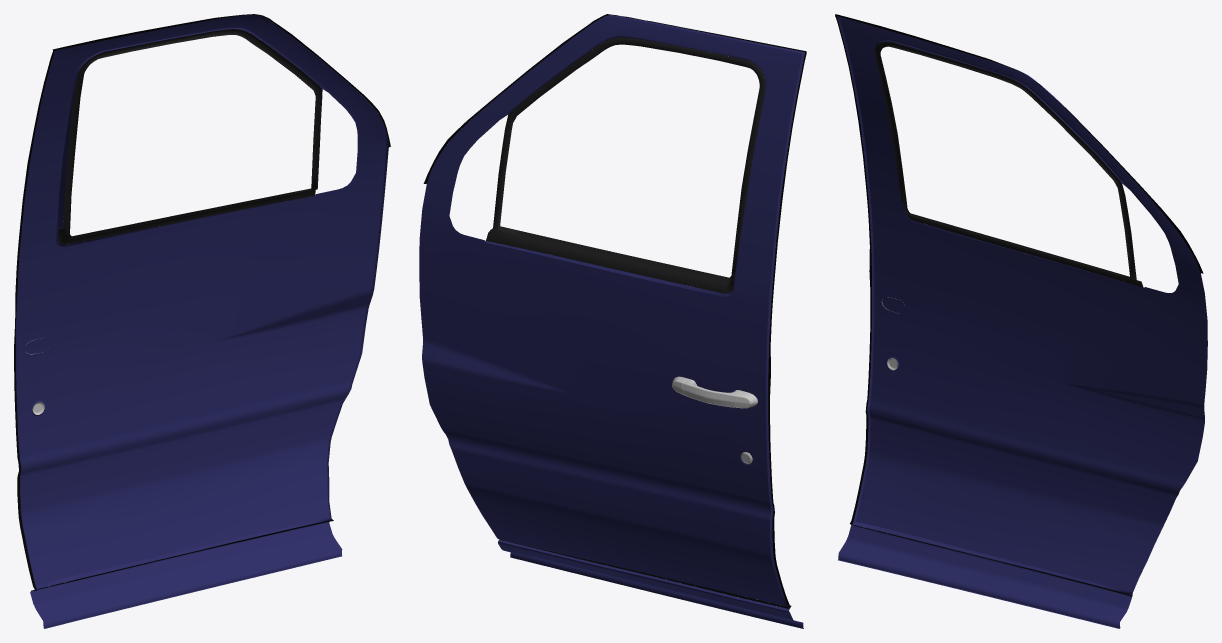
The picture shows the model from 3 angles, left to right: view 1: azimuth 30°, elevation 25°; view 2: azimuth 150°, elevation 25°; view 3: azimuth 330°, elevation 25°; orthographic projection. The views are drawn at different scales.
Visible parts, largest first — view 1: P615_5A_261B_L_P615_5A_261B_L_1_DaS, P615_5A_261B_L_P615_5A_261B_L_2_D, P615_5A_261B_L_P615_5A_261B_L_1_DaS_E, P615_5A_261B_L_P615_5A_261B_L_4_D; view 2: P615_5A_261B_L_P615_5A_261B_L_1_DaS, P615_5A_261B_L_P615_5A_261B_L_2_D, P615_5A_261B_L_P615_5A_261B_L_1_DaS_E, P615_5A_261B_L_P615_5A_261B_L_4_D, P615_5A_261B_L_3_DaS_P615_5A_261B_L; view 3: P615_5A_261B_L_P615_5A_261B_L_1_DaS, P615_5A_261B_L_P615_5A_261B_L_2_D, P615_5A_261B_L_P615_5A_261B_L_1_DaS_E, P615_5A_261B_L_P615_5A_261B_L_4_D.
Part boxes in pixels (x1,y1,x2,y2): P615_5A_261B_L_P615_5A_261B_L_1_DaS: (16, 14, 386, 627); P615_5A_261B_L_P615_5A_261B_L_2_D: (58, 29, 322, 244); P615_5A_261B_L_P615_5A_261B_L_1_DaS_E: (16, 14, 388, 628); P615_5A_261B_L_P615_5A_261B_L_4_D: (14, 14, 390, 590); P615_5A_261B_L_P615_5A_261B_L_1_DaS: (419, 16, 803, 628); P615_5A_261B_L_P615_5A_261B_L_2_D: (486, 37, 765, 293); P615_5A_261B_L_P615_5A_261B_L_1_DaS_E: (419, 15, 804, 628); P615_5A_261B_L_P615_5A_261B_L_4_D: (423, 14, 806, 608); P615_5A_261B_L_3_DaS_P615_5A_261B_L: (672, 376, 757, 463); P615_5A_261B_L_P615_5A_261B_L_1_DaS: (838, 16, 1207, 627); P615_5A_261B_L_P615_5A_261B_L_2_D: (874, 41, 1143, 287); P615_5A_261B_L_P615_5A_261B_L_1_DaS_E: (837, 16, 1207, 628); P615_5A_261B_L_P615_5A_261B_L_4_D: (835, 14, 1203, 596).
Bounding box in the file's own units: 109 × 166 × 25.43.
